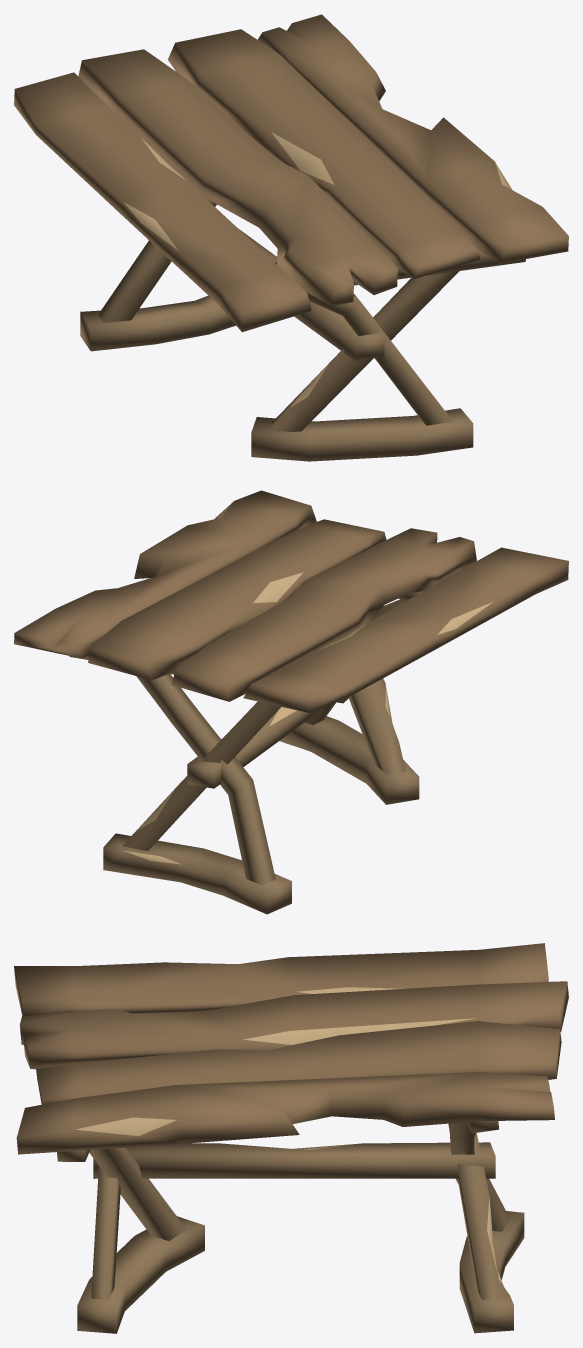
File: rpgpp_av_table_03a.gltf
The picture shows the model from 3 angles, top to bottom: view 1: azimuth 30°, elevation 25°; view 2: azimuth 150°, elevation 25°; view 3: azimuth 270°, elevation 25°; orthographic projection. The views are drawn at different scales.
Parts seen in each view (by area): view 1: rpgpp_av_table_03a; view 2: rpgpp_av_table_03a; view 3: rpgpp_av_table_03a.
Boxes of the visible parts, left/top/right/bottom form: rpgpp_av_table_03a: left=14, top=14, right=568, bottom=461; rpgpp_av_table_03a: left=14, top=490, right=568, bottom=914; rpgpp_av_table_03a: left=14, top=943, right=568, bottom=1333.
Size of the model in its own units: 0.0112 by 0.00819 by 0.0153.
Materials: 1 (1 with a texture image).
